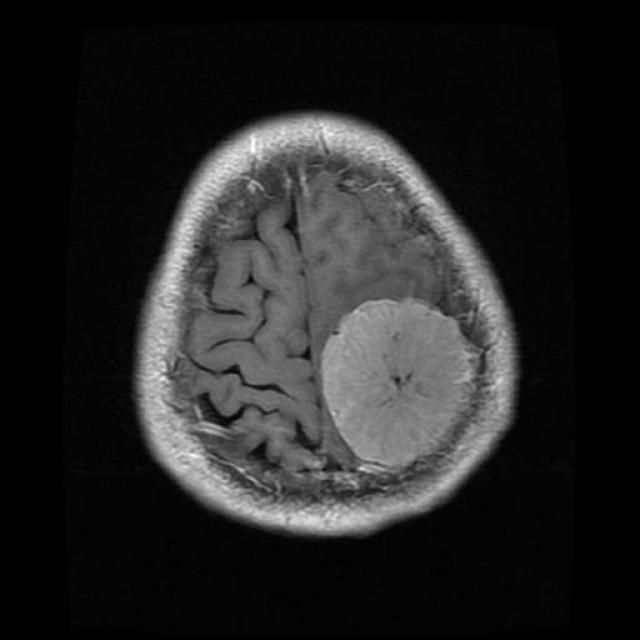Meningioma: (322, 298, 476, 468)
